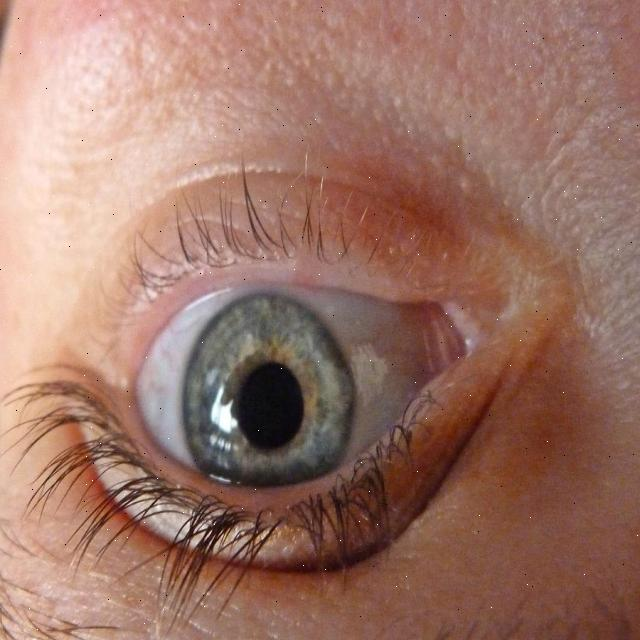Normal: (183, 289, 354, 524)
